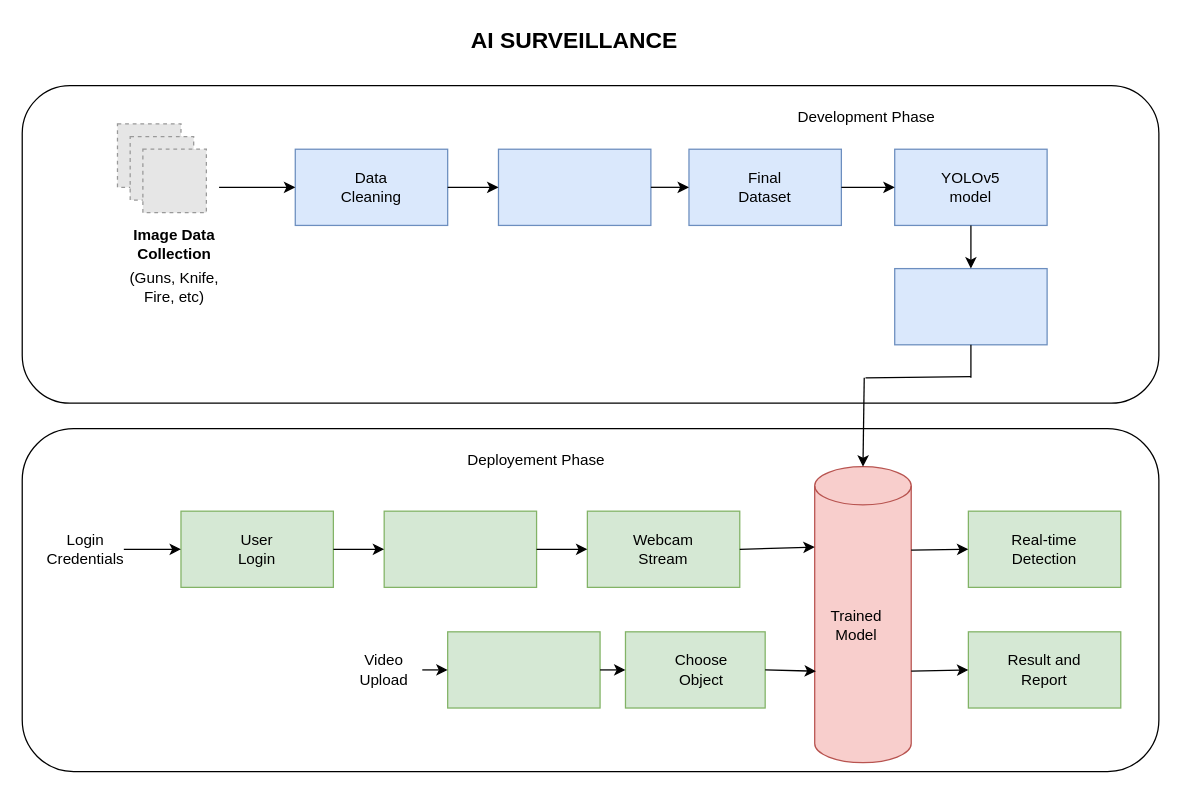
The diagram is 1181 pixels wide and 794 high, and some of its shapes have lost their labels. Grey dashed boxes stand in for pictures. The centre of each missing label's shape, as x and y in pixels:
"Data Labelling" belongs at point 574,186.
"Home" belongs at point 460,548.
"Search Module" belongs at point 523,669.
"Train YOLOv5" belongs at point 970,306.
